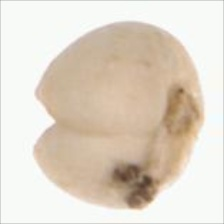L3: (27, 84, 55, 157)
L4: (33, 21, 205, 210)
